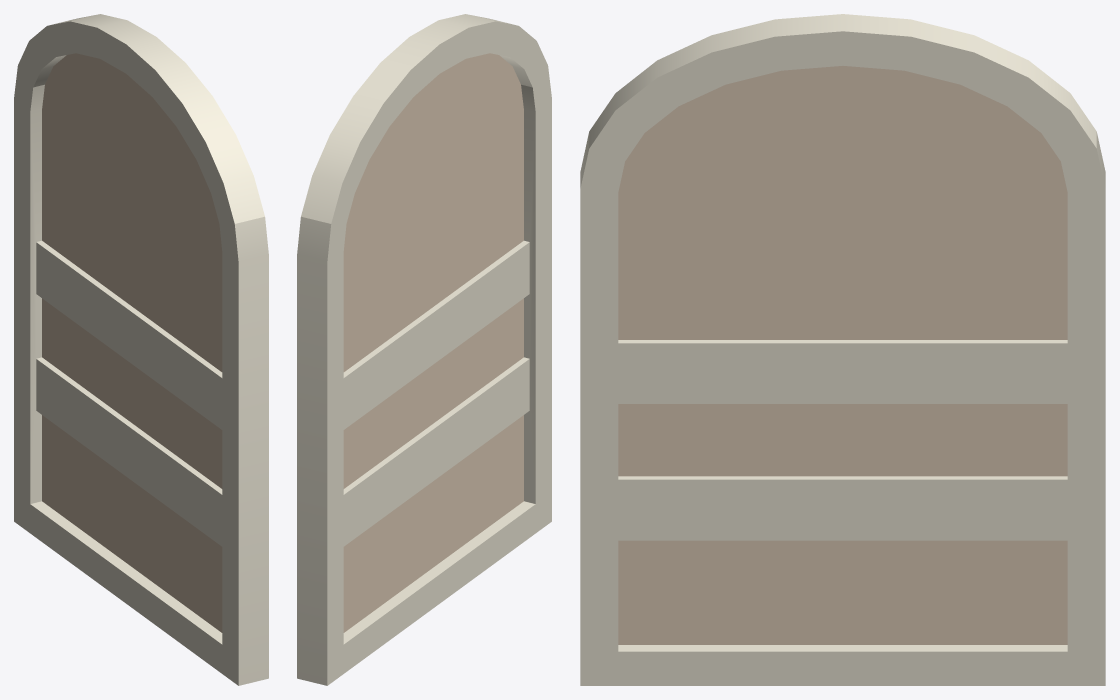
Rendered from gate.glb.
The picture shows the model from 3 angles, left to right: view 1: azimuth 30°, elevation 25°; view 2: azimuth 150°, elevation 25°; view 3: azimuth 270°, elevation 25°; orthographic projection. The views are drawn at different scales.
Visible parts, largest first — view 1: gate; view 2: gate; view 3: gate.
Part boxes in pixels (x1,y1,x2,y2): gate: (14, 14, 268, 685); gate: (297, 14, 551, 685); gate: (580, 14, 1105, 685).
Bounding box in the file's own units: 0.516 × 9.1 × 6.62.
